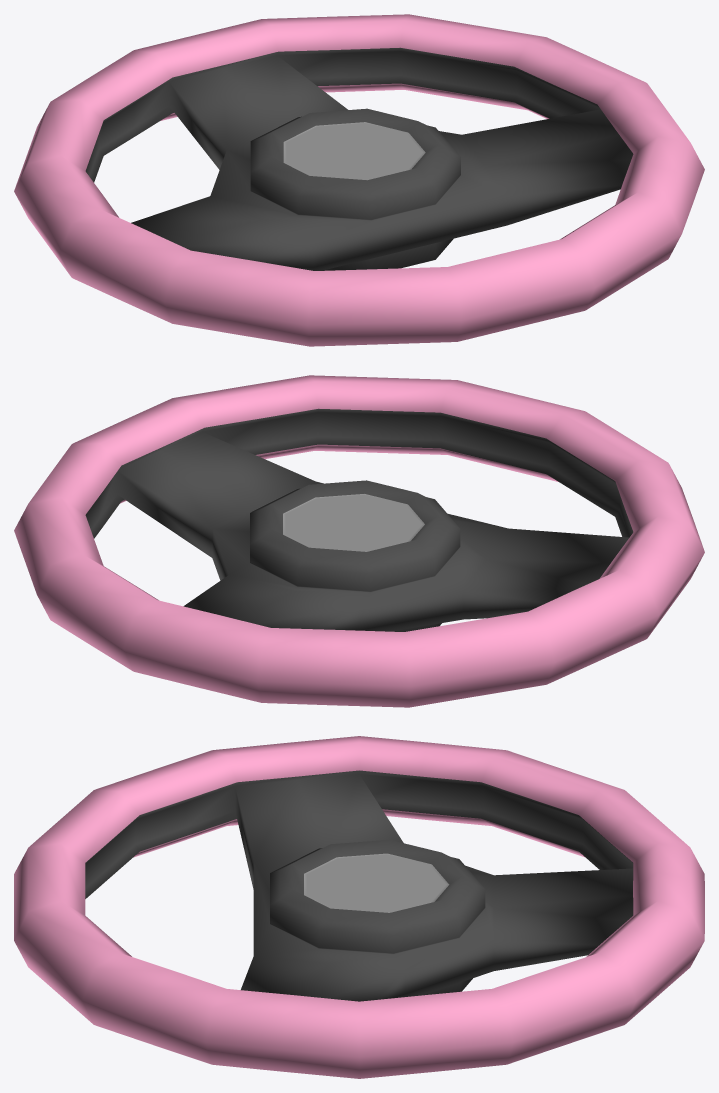
File: steeringwheel.glb
3 renders of one model, top to bottom at view 1: azimuth 30°, elevation 25°; view 2: azimuth 150°, elevation 25°; view 3: azimuth 270°, elevation 25°, orthographic. The views are drawn at different scales.
Parts seen in each view (by area): view 1: Torus; view 2: Torus; view 3: Torus.
Boxes of the visible parts, x1,y1,x2,y2 form: Torus: (14, 14, 704, 346); Torus: (14, 375, 704, 707); Torus: (14, 736, 704, 1078).
Size of the model in its own units: 2.25 by 0.3395 by 2.2.
